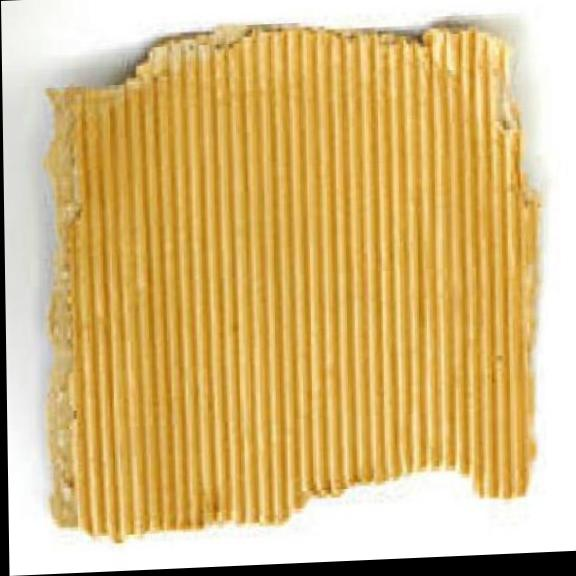Kertas: (46, 15, 545, 548), (48, 27, 538, 540)
